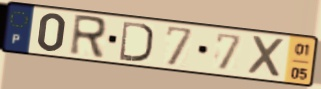0: (35, 12, 68, 54)
7: (165, 24, 195, 68), (213, 31, 244, 72)
D: (118, 19, 155, 64)
R: (67, 13, 108, 61)
X: (247, 34, 288, 80)
